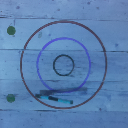Axe Tip: (37, 93, 48, 95)
